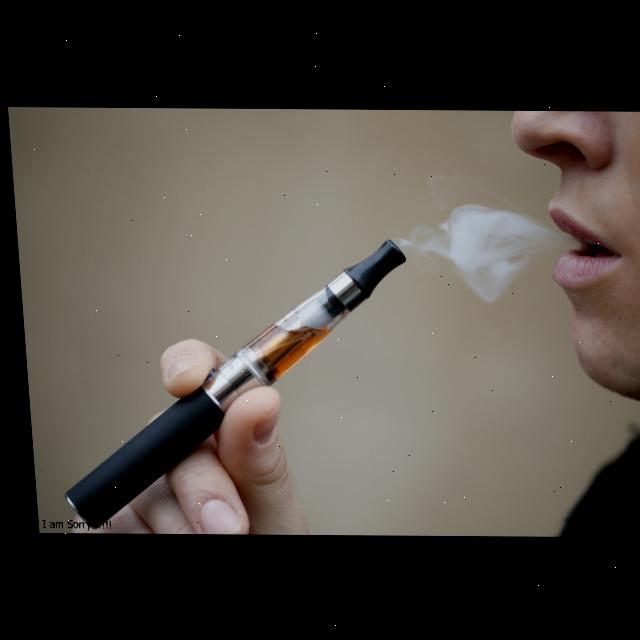vape: (40, 234, 418, 532)
